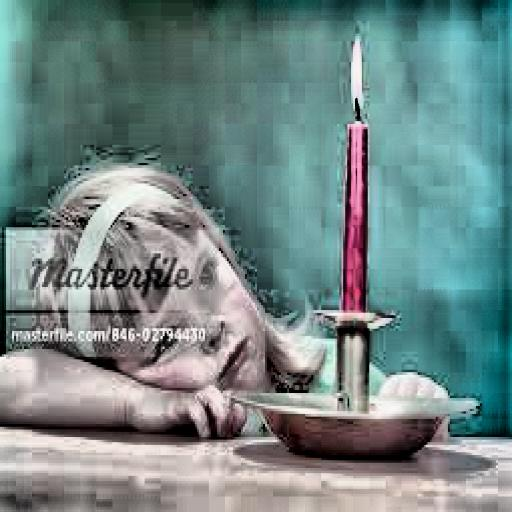fire: (340, 31, 382, 129)
